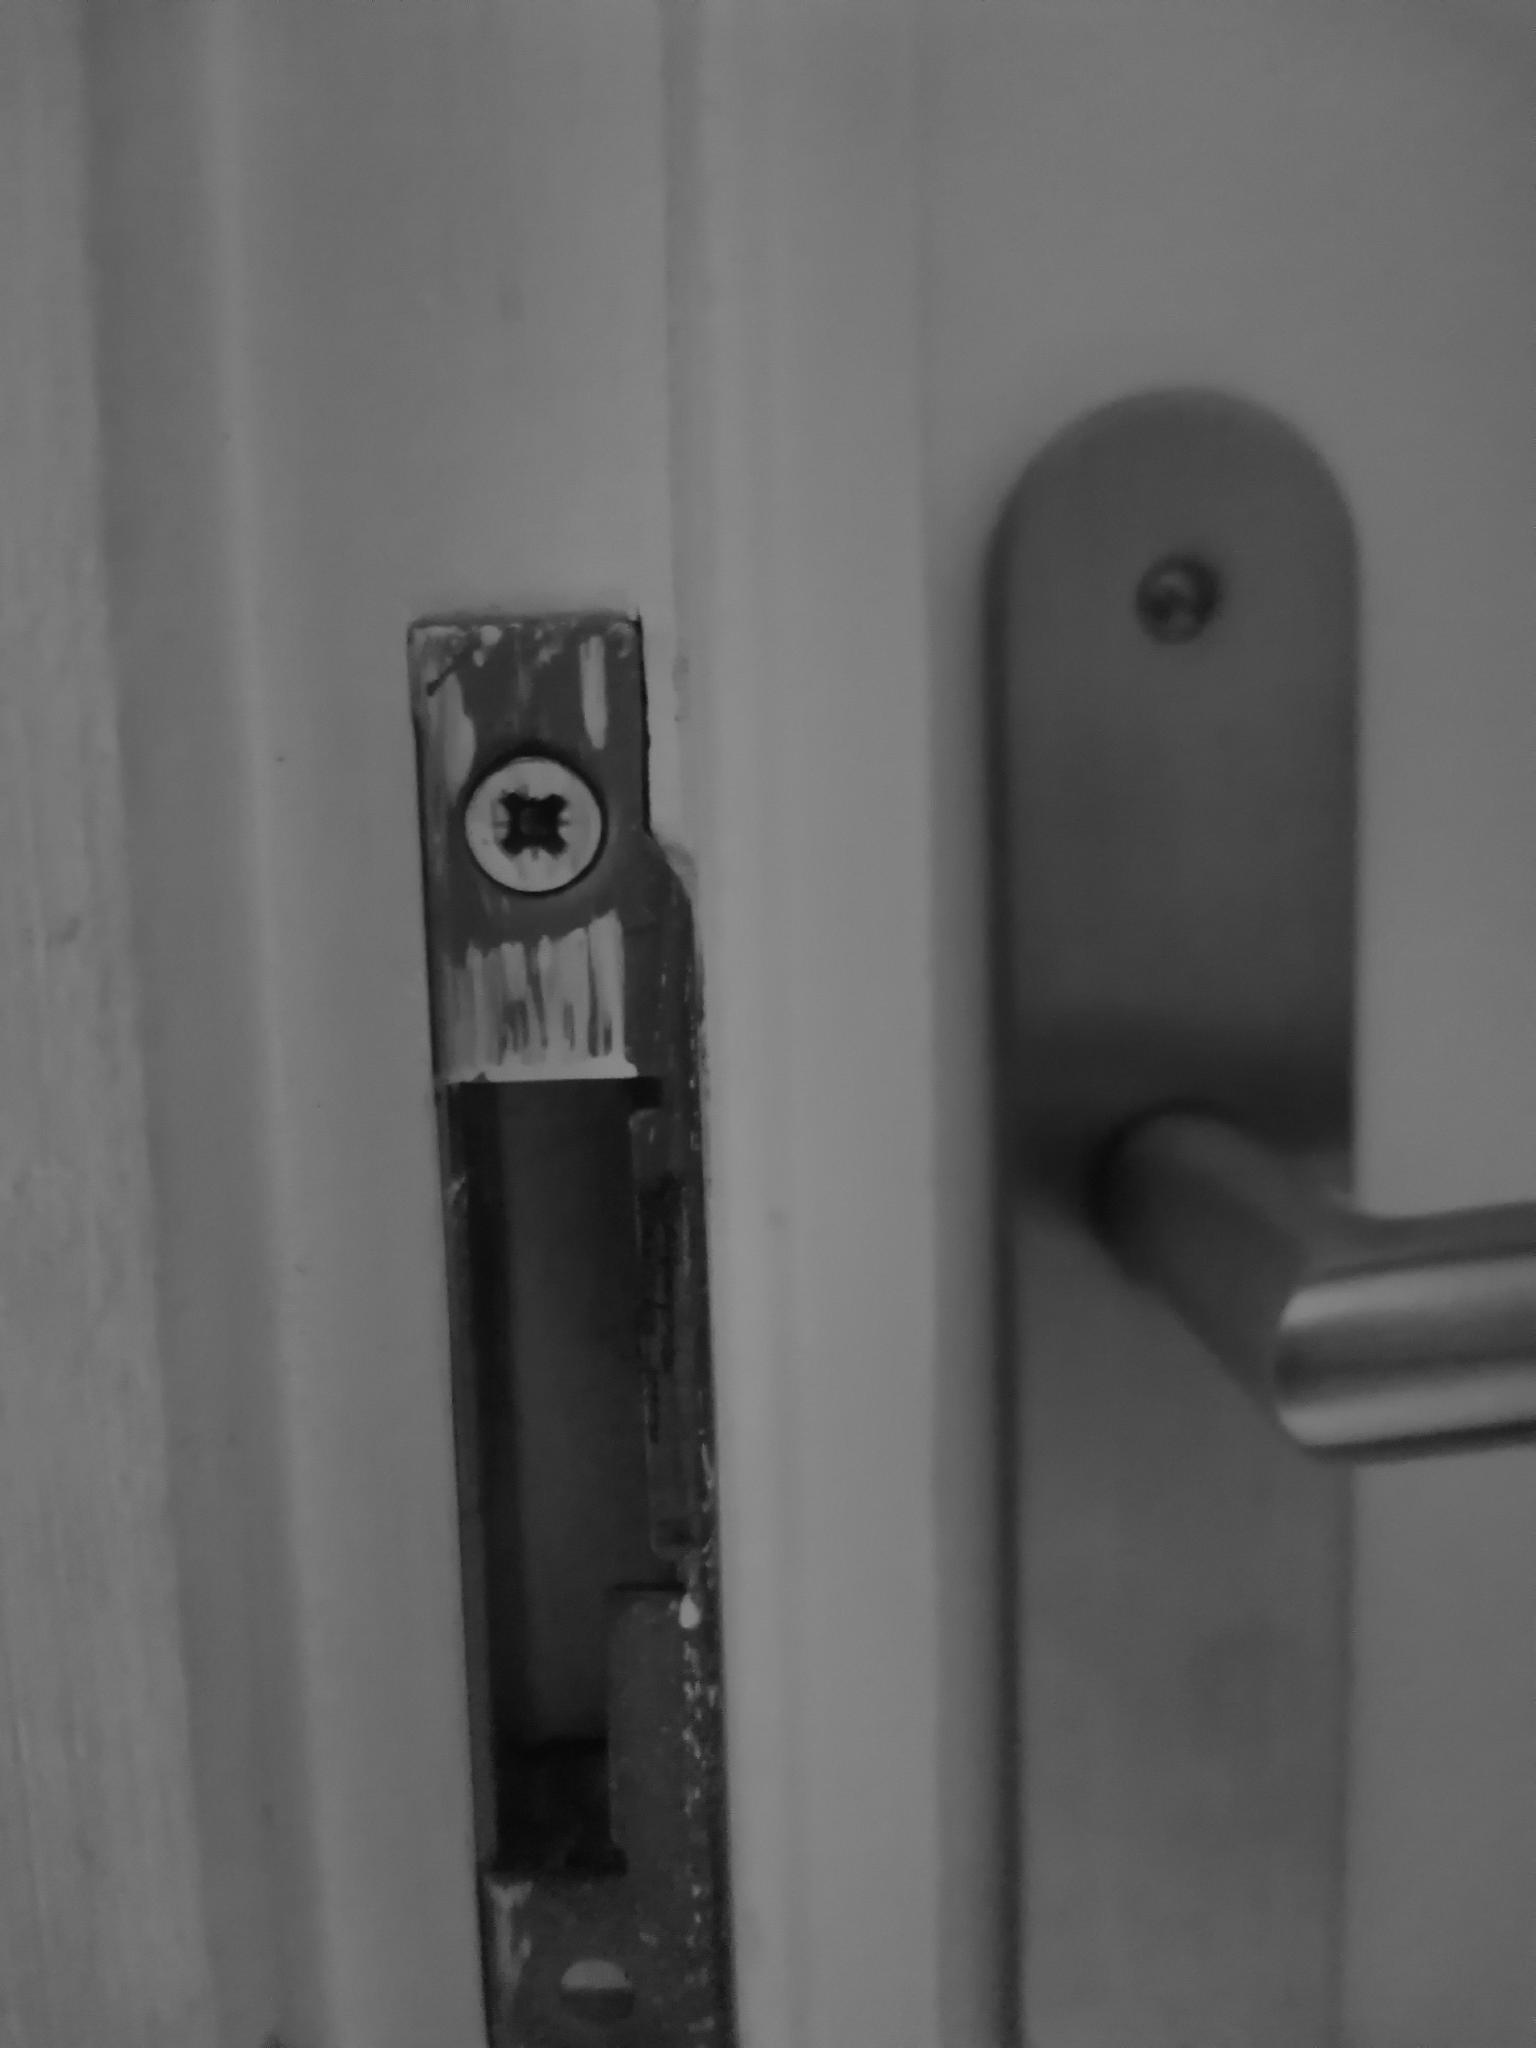philips-PZ: (439, 743, 629, 922)
